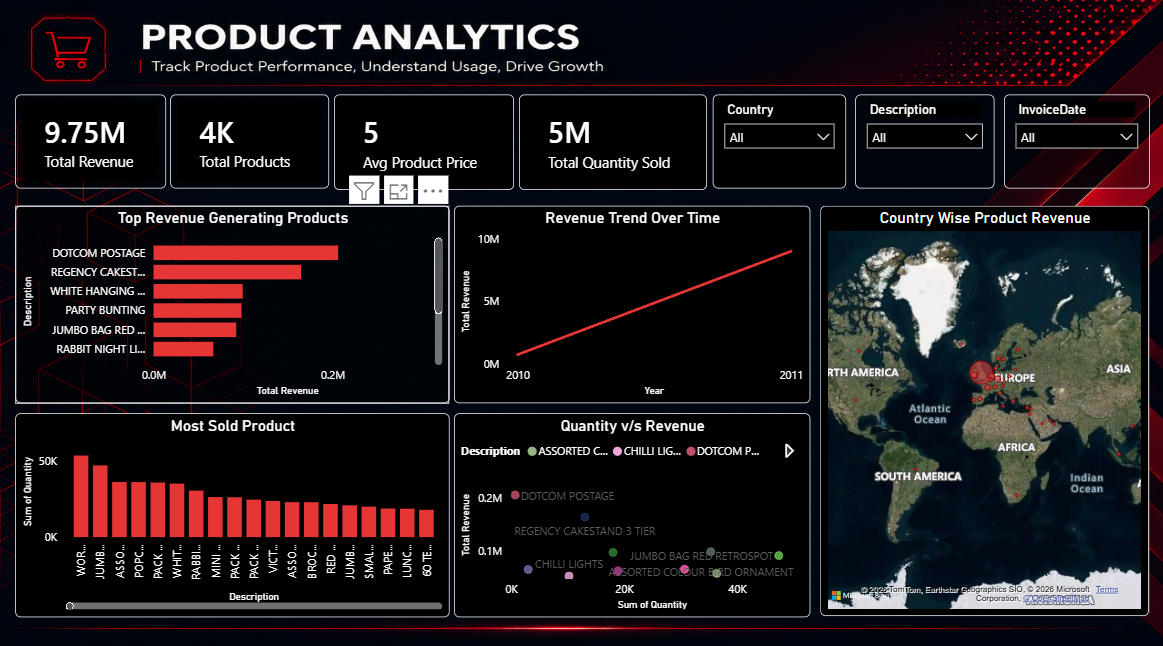

This screenshot's page, from the dashboard's own definition file:
{"tool":"powerbi","page":{"name":"Product Analytics","canvas":[1280,720],"ordinal":4},"visuals":[{"type":"cardVisual","fields":{"Data":["ecommerce orders.Total Revenue"]},"box":[17.4,107.5,165.7,103.2],"z":0},{"type":"cardVisual","fields":{"Data":["ecommerce orders.Total Products"]},"box":[187.5,107.5,174.4,103.2],"z":1000},{"type":"cardVisual","fields":{"Data":["ecommerce orders.Avg Product Price"]},"box":[367.7,107.5,197.6,104.6],"z":2000},{"type":"cardVisual","fields":{"Data":["ecommerce orders.Total Quantity Sold"]},"box":[571.1,107.5,206.4,104.6],"z":3000},{"type":"clusteredBarChart","title":"Top Revenue Generating Products","fields":{"Category":["ecommerce orders.Description"],"Y":["ecommerce orders.Total Revenue"]},"box":[17.4,229.6,476.7,216.5],"z":4000},{"type":"clusteredColumnChart","title":"Most Sold Product","fields":{"Category":["ecommerce orders.Description"],"Y":["Sum(ecommerce orders.Quantity)"]},"box":[17.4,456.3,476.7,223.8],"z":5000},{"type":"lineChart","title":"Revenue Trend Over Time","fields":{"Category":["ecommerce orders.InvoiceDate.Variation.Date Hierarchy.Year","ecommerce orders.InvoiceDate.Variation.Date Hierarchy.Quarter","ecommerce orders.InvoiceDate.Variation.Date Hierarchy.Month","ecommerce orders.InvoiceDate.Variation.Date Hierarchy.Day"],"Y":["ecommerce orders.Total Revenue"]},"box":[499.9,229.6,390.9,216.5],"z":6000},{"type":"scatterChart","title":"Quantity v/s Revenue","fields":{"X":["Sum(ecommerce orders.Quantity)"],"Y":["ecommerce orders.Total Revenue"],"Series":["ecommerce orders.Description"]},"box":[499.9,456.3,390.9,223.8],"z":7000},{"type":"map","title":"Country Wise Product Revenue","fields":{"Category":["ecommerce orders.Country"],"Size":["ecommerce orders.Total Revenue"]},"box":[901,229.6,360.4,450.5],"z":8000},{"type":"slicer","fields":{"Values":["ecommerce orders.Country"]},"box":[783.3,107.5,146.8,103.2],"z":9000},{"type":"slicer","fields":{"Values":["ecommerce orders.InvoiceDate"]},"box":[1103,107.5,159.9,103.2],"z":10000},{"type":"slicer","fields":{"Values":["ecommerce orders.Description"]},"box":[940.2,107.5,152.6,103.2],"z":11000}]}

Visuals, with their boxes in screenshot pixels (x1, y1, x2, y2), scaled from the page's 1280x720 canvas onto the 1163x646 screenshot:
cardVisual - ecommerce orders.Total Revenue: [left=16, top=96, right=166, bottom=189]
cardVisual - ecommerce orders.Total Products: [left=170, top=96, right=329, bottom=189]
cardVisual - ecommerce orders.Avg Product Price: [left=334, top=96, right=514, bottom=190]
cardVisual - ecommerce orders.Total Quantity Sold: [left=519, top=96, right=706, bottom=190]
"Top Revenue Generating Products" clusteredBarChart: [left=16, top=206, right=449, bottom=400]
"Most Sold Product" clusteredColumnChart: [left=16, top=409, right=449, bottom=610]
"Revenue Trend Over Time" lineChart: [left=454, top=206, right=809, bottom=400]
"Quantity v/s Revenue" scatterChart: [left=454, top=409, right=809, bottom=610]
"Country Wise Product Revenue" map: [left=819, top=206, right=1146, bottom=610]
slicer - ecommerce orders.Country: [left=712, top=96, right=845, bottom=189]
slicer - ecommerce orders.InvoiceDate: [left=1002, top=96, right=1147, bottom=189]
slicer - ecommerce orders.Description: [left=854, top=96, right=993, bottom=189]
